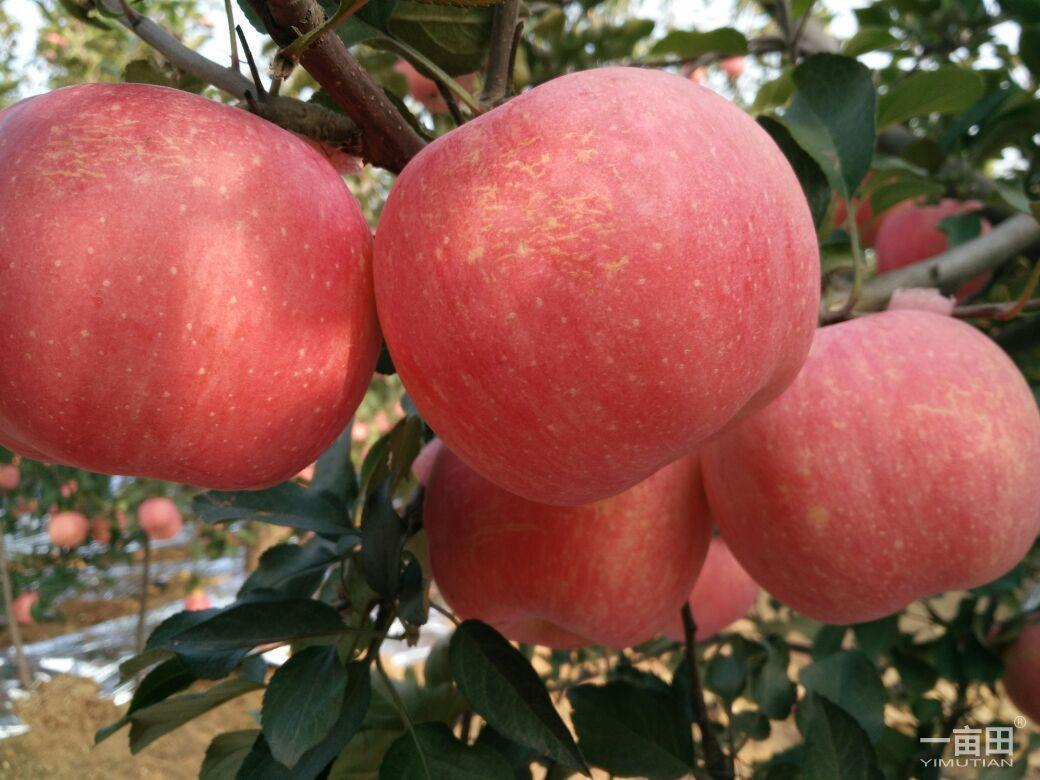apple: (368, 67, 817, 499), (1, 85, 373, 490), (705, 306, 1036, 628), (416, 451, 709, 648), (999, 613, 1040, 723)
